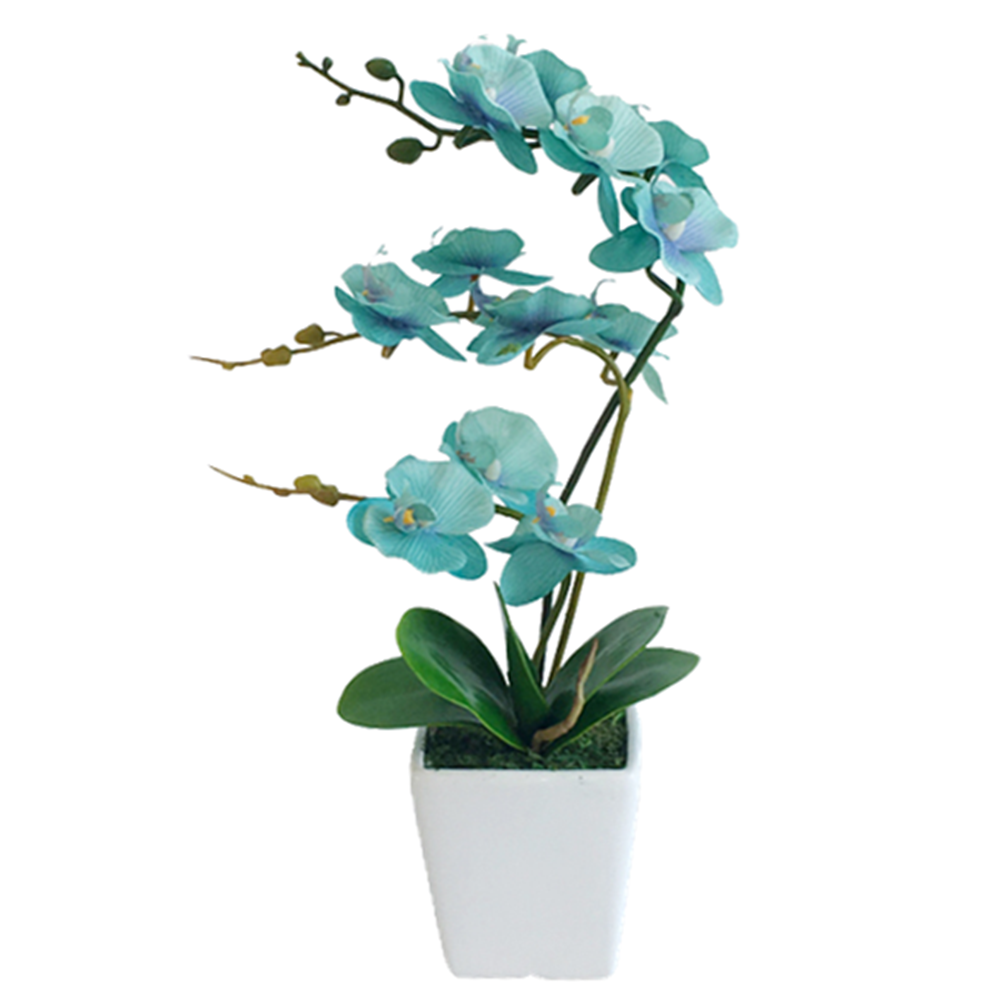plant: (192, 31, 744, 983)
